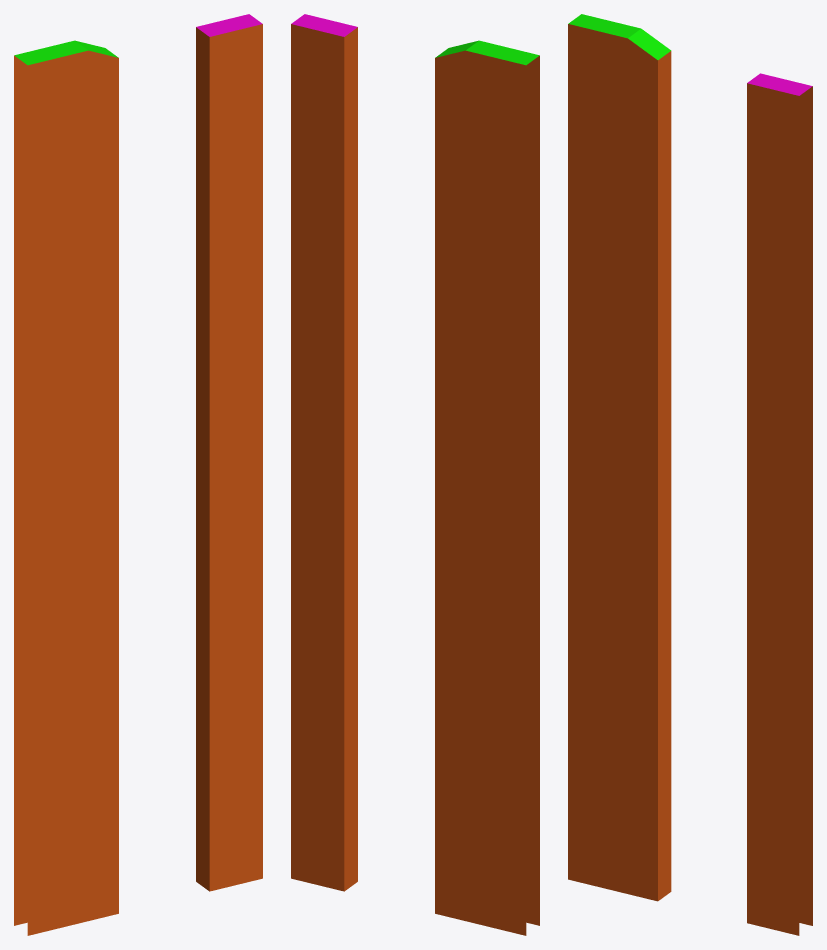
The model's file is 02bigplatform.fbx.
3 views of the same model, side by side, from view 1: azimuth 30°, elevation 25°; view 2: azimuth 150°, elevation 25°; view 3: azimuth 330°, elevation 25° (orthographic).
Visible parts, largest first — view 1: PolyShape__7_.013, PolyShape__7_; view 2: PolyShape__7_.013, PolyShape__7_; view 3: PolyShape__7_.013, PolyShape__7_.
Part boxes in pixels (left/top/right/bottom): PolyShape__7_.013: left=14, top=40, right=118, bottom=935; PolyShape__7_: left=196, top=14, right=262, bottom=891; PolyShape__7_.013: left=435, top=40, right=539, bottom=935; PolyShape__7_: left=291, top=14, right=357, bottom=891; PolyShape__7_.013: left=568, top=14, right=671, bottom=901; PolyShape__7_: left=747, top=73, right=812, bottom=935.
Bounding box in the file's own units: 119 × 421 × 12.
